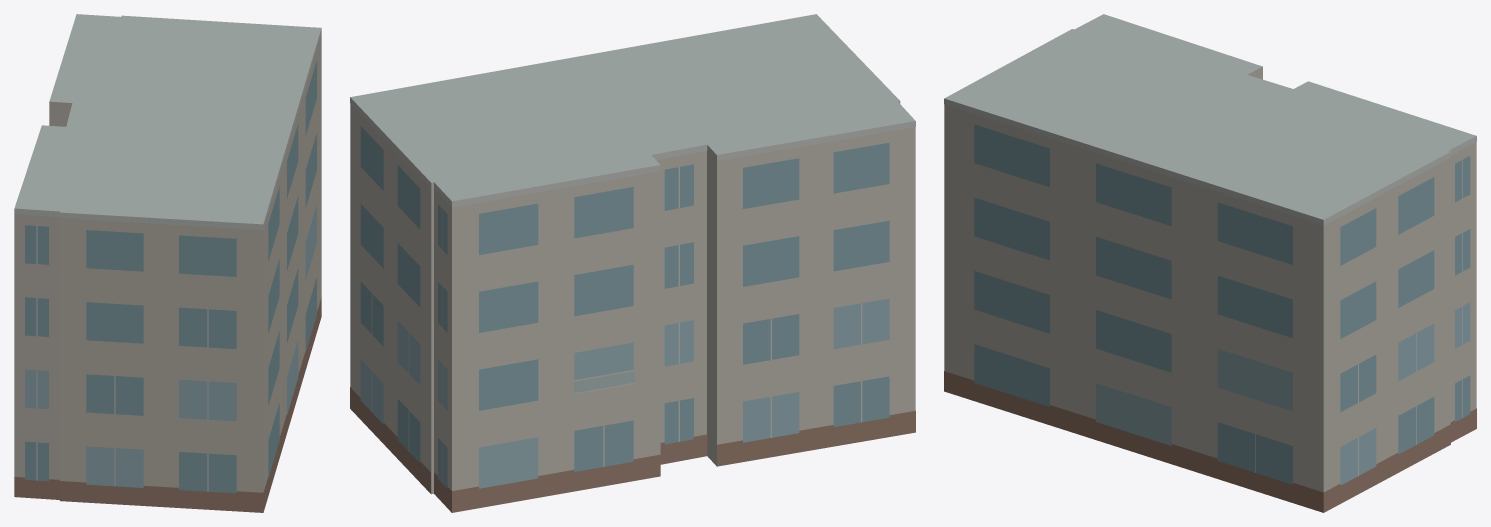
File: survey-upis-33035972.glb
3 renders of one model, left to right at view 1: azimuth 30°, elevation 25°; view 2: azimuth 150°, elevation 25°; view 3: azimuth 270°, elevation 25°, orthographic. The views are drawn at different scales.
Visible parts, largest first — view 1: survey-upis-33035972.tmp; view 2: survey-upis-33035972.tmp; view 3: survey-upis-33035972.tmp.
Boxes of the visible parts, <box> form: survey-upis-33035972.tmp: <box>14,14,321,512</box>; survey-upis-33035972.tmp: <box>350,14,915,512</box>; survey-upis-33035972.tmp: <box>944,14,1476,512</box>.
Size of the model in its own units: 18.7 by 12.4 by 20.44.
